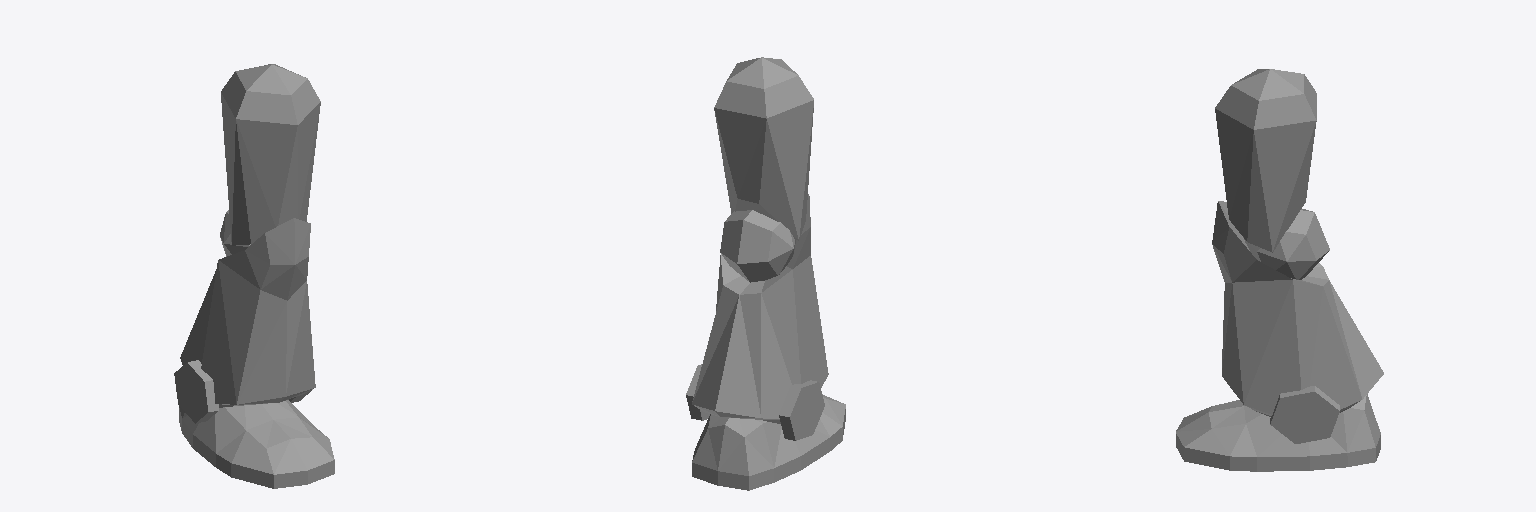
Rendered from piernaizquierda.obj.
The picture shows the model from 3 angles: view 1: azimuth 30°, elevation 25°; view 2: azimuth 150°, elevation 25°; view 3: azimuth 270°, elevation 25°; orthographic projection.
Visible parts, largest first — view 1: buzzlightyRightFoot_buzzlighty.005; view 2: buzzlightyRightFoot_buzzlighty.005; view 3: buzzlightyRightFoot_buzzlighty.005.
Boxes of the visible parts, x1=… form: buzzlightyRightFoot_buzzlighty.005: x1=174, y1=64, x2=334, y2=488; buzzlightyRightFoot_buzzlighty.005: x1=686, y1=57, x2=845, y2=490; buzzlightyRightFoot_buzzlighty.005: x1=1176, y1=69, x2=1383, y2=471.
Size of the model in its own units: 0.1133 by 0.3933 by 0.1934.